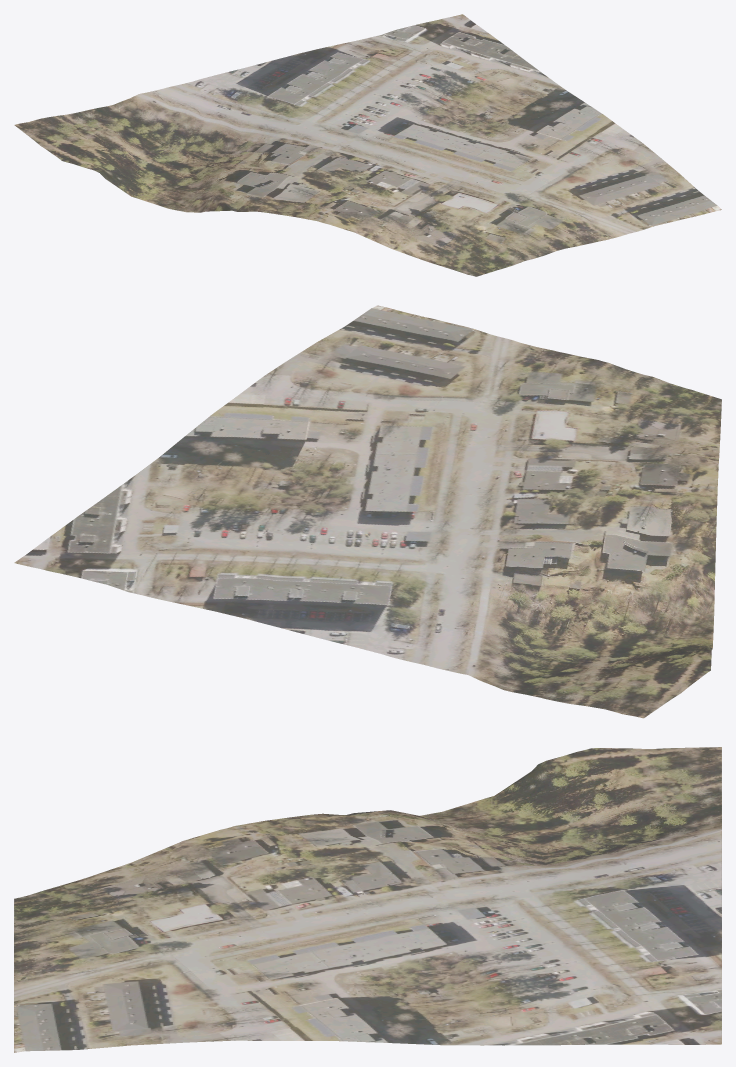
The model's file is CM_Terrain_24491482_6814879.fbx.
The picture shows the model from 3 angles, top to bottom: view 1: azimuth 30°, elevation 25°; view 2: azimuth 150°, elevation 25°; view 3: azimuth 270°, elevation 25°; orthographic projection. The views are drawn at different scales.
Parts seen in each view (by area): view 1: CM_Terrain_24491482_6814879_LOD0; view 2: CM_Terrain_24491482_6814879_LOD0; view 3: CM_Terrain_24491482_6814879_LOD0.
Boxes of the visible parts, box(x1,y1,x2,y2) form: CM_Terrain_24491482_6814879_LOD0: box(14, 14, 721, 276); CM_Terrain_24491482_6814879_LOD0: box(14, 305, 721, 718); CM_Terrain_24491482_6814879_LOD0: box(14, 747, 721, 1052).
Size of what is drawn, in the model's own units: 205 by 11.43 by 205.
